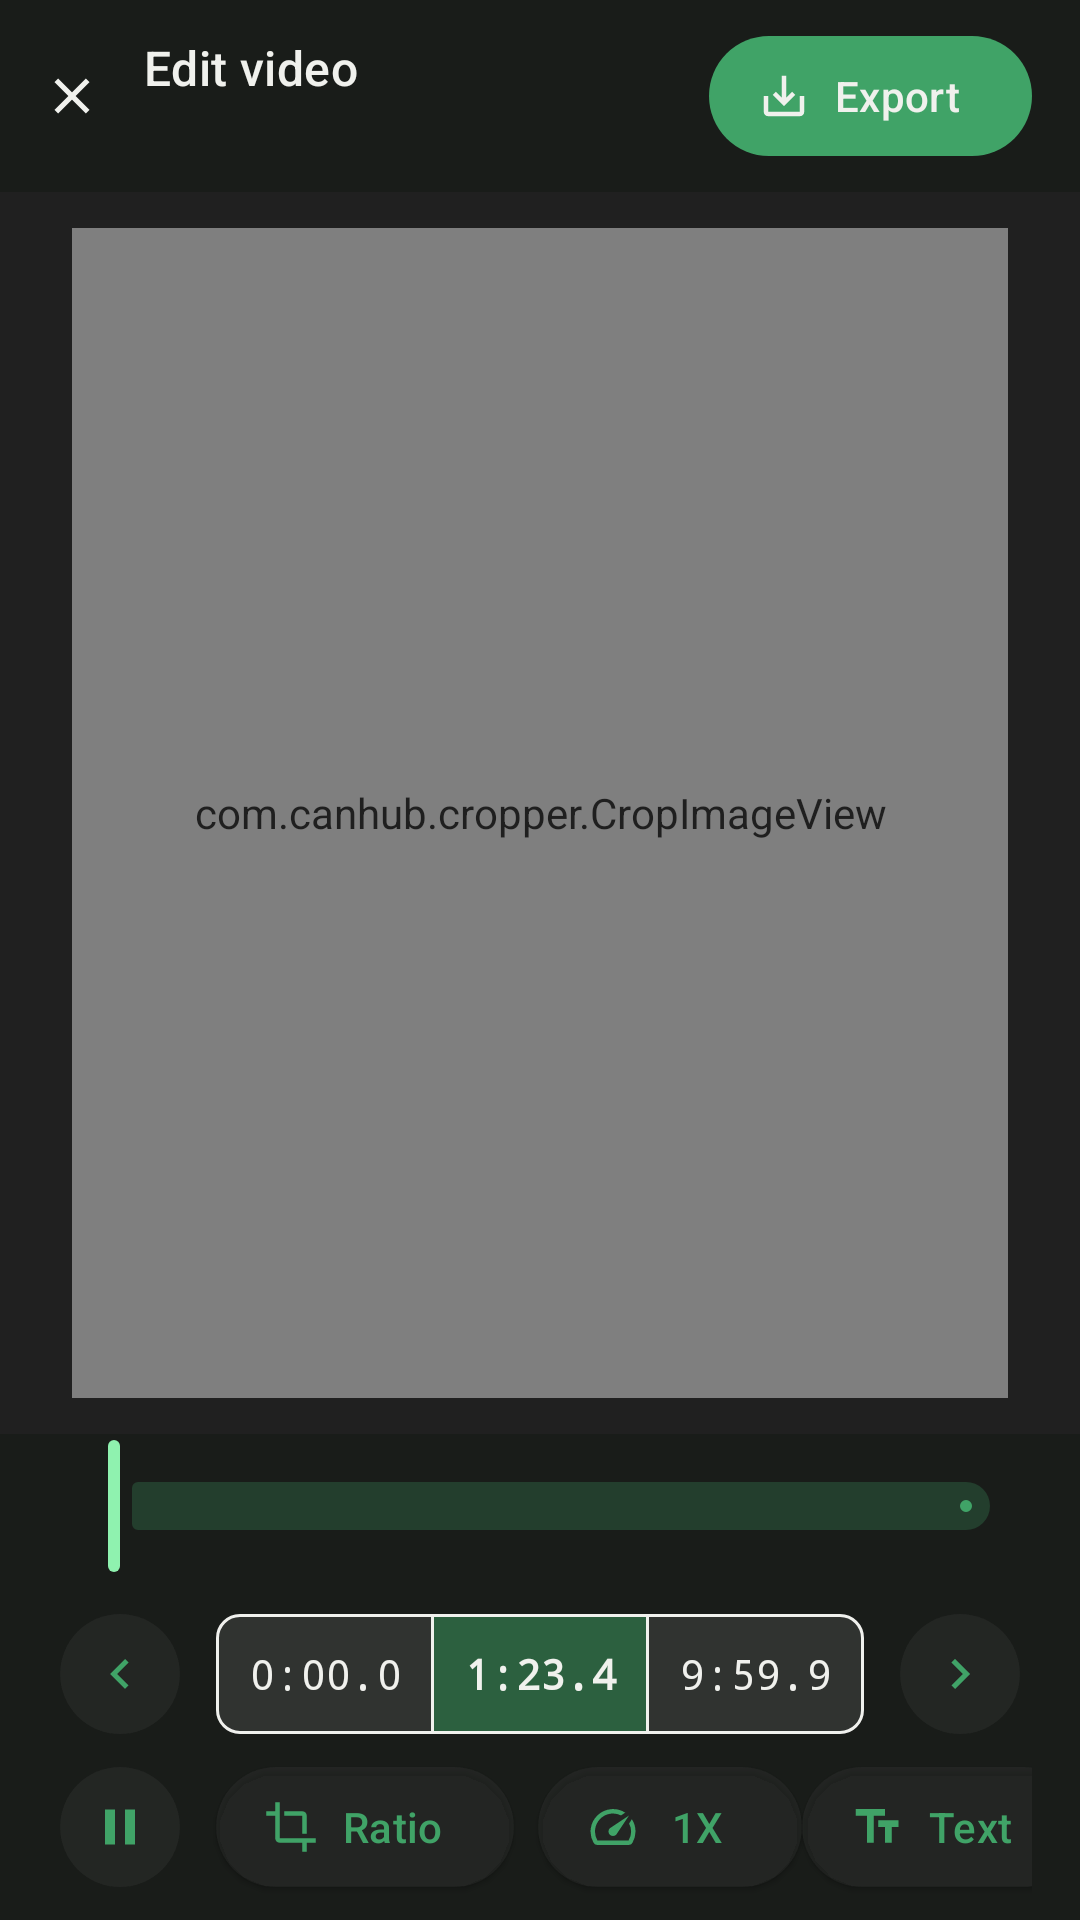

Point at icon controls on the screen. Image size 1080×1920, points as (x=x, y=y).
close: (x=72, y=96)
pause: (x=120, y=1827)
